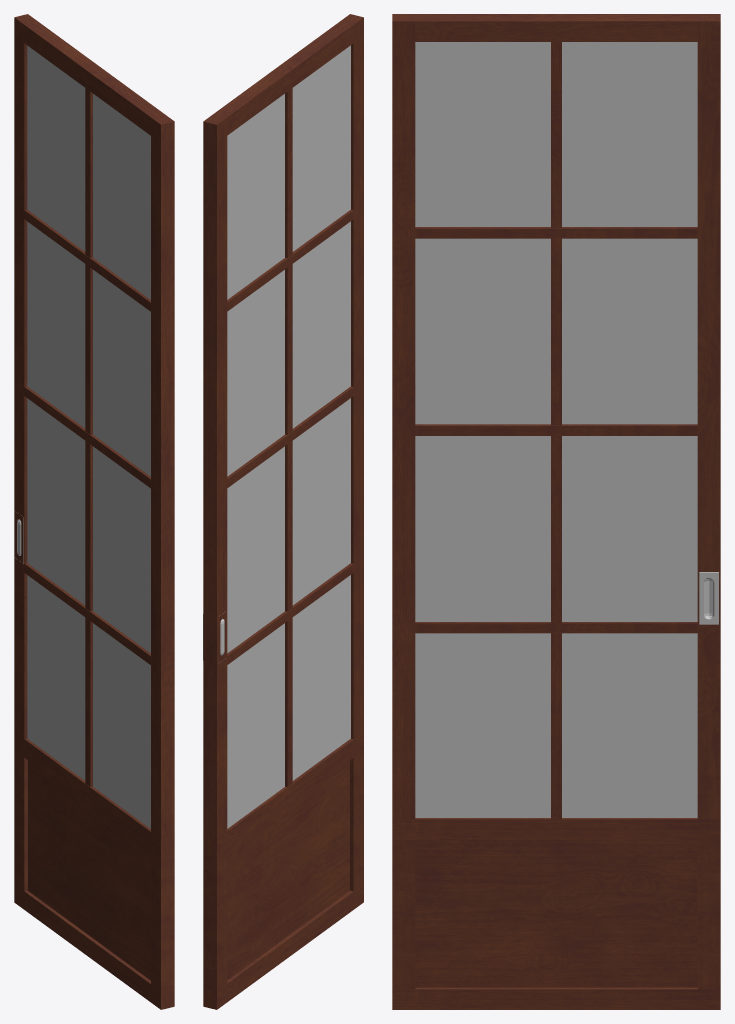
File: SM_InnerDoor01V.fbx
3 views of the same model, side by side, from view 1: azimuth 30°, elevation 25°; view 2: azimuth 150°, elevation 25°; view 3: azimuth 270°, elevation 25° (orthographic). The views are drawn at different scales.
Parts seen in each view (by area): view 1: SM_InnerDoor01V; view 2: SM_InnerDoor01V; view 3: SM_InnerDoor01V.
Part boxes in pixels (x1,y1,x2,y2): SM_InnerDoor01V: (14,14,174,1009); SM_InnerDoor01V: (203,14,363,1009); SM_InnerDoor01V: (392,14,720,1009).
Bounding box in the file's own units: 3.85 × 60.27 × 200.
